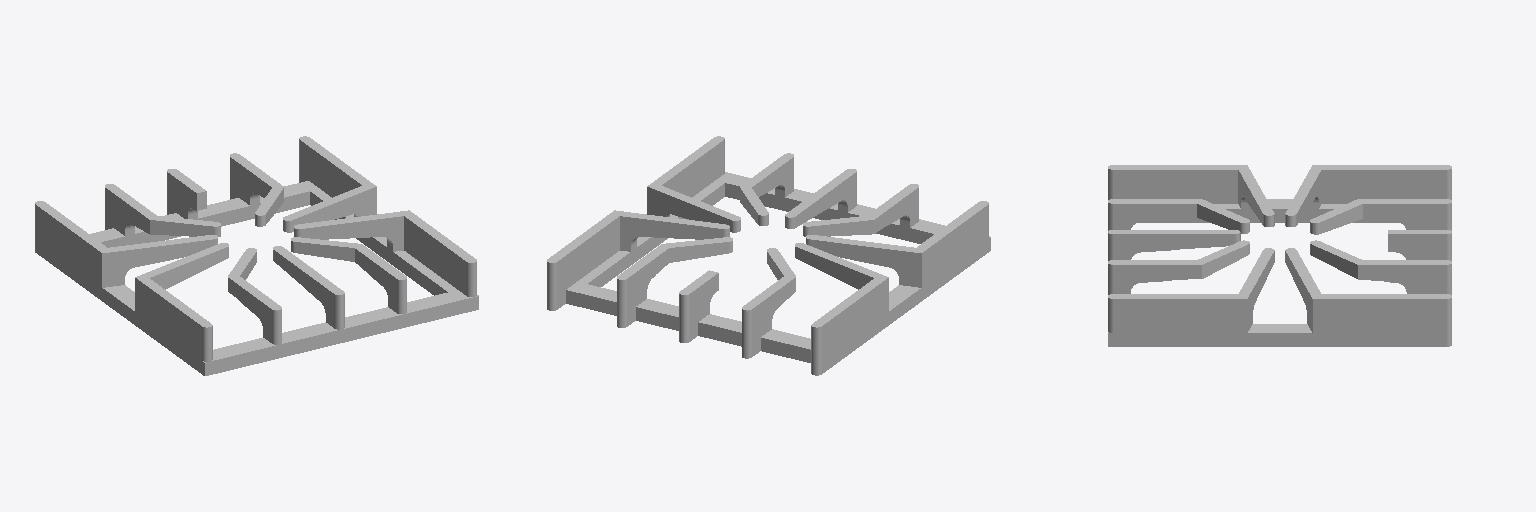
The model's file is original-10.obj.
3 views of the same model, side by side, from view 1: azimuth 30°, elevation 25°; view 2: azimuth 150°, elevation 25°; view 3: azimuth 270°, elevation 25° (orthographic).
Visible parts, largest first — view 1: mesh22/mesh22-geometry#mesh22-geometry; view 2: mesh22/mesh22-geometry#mesh22-geometry; view 3: mesh22/mesh22-geometry#mesh22-geometry.
Boxes of the visible parts, x1=… form: mesh22/mesh22-geometry#mesh22-geometry: x1=35, y1=136, x2=478, y2=375; mesh22/mesh22-geometry#mesh22-geometry: x1=547, y1=136, x2=990, y2=375; mesh22/mesh22-geometry#mesh22-geometry: x1=1108, y1=165, x2=1451, y2=346.
Size of the model in its own units: 0.3455 by 0.0579 by 0.3756.